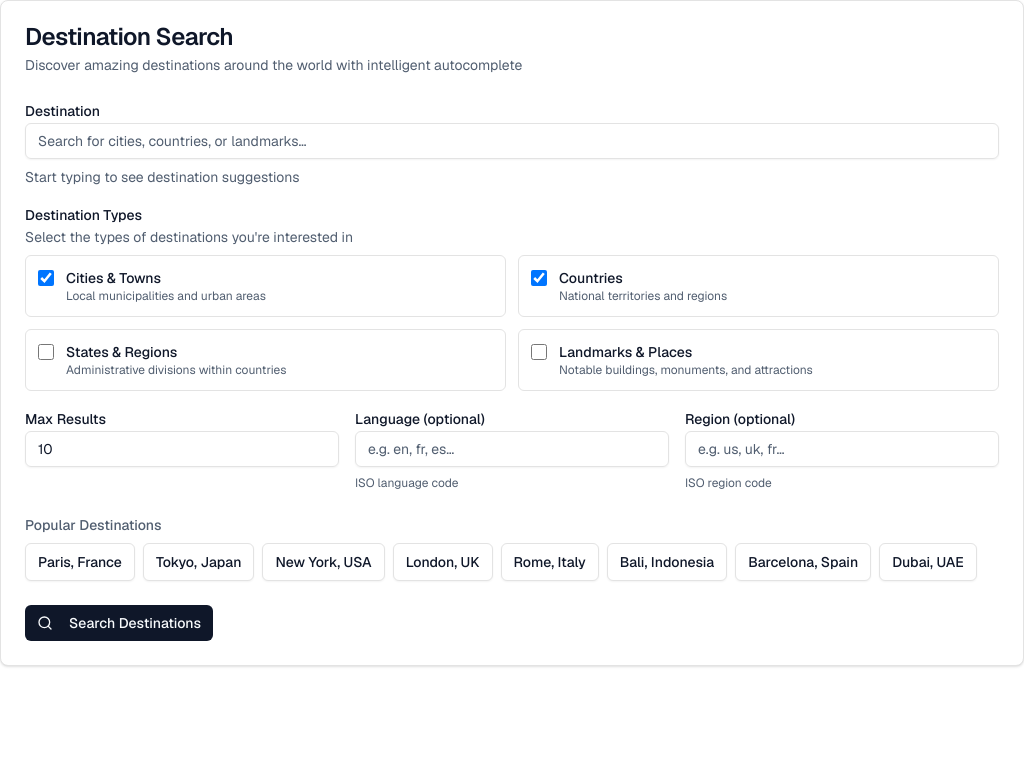
Test case: DestinationSearchForm › filters suggestions by selected destination types
Step 1. Type "Co" into the dropdown with placeholder "Search for cities, countries, or landmarks…" → (512, 141), box [25, 123, 999, 159]
Wait 350 ms
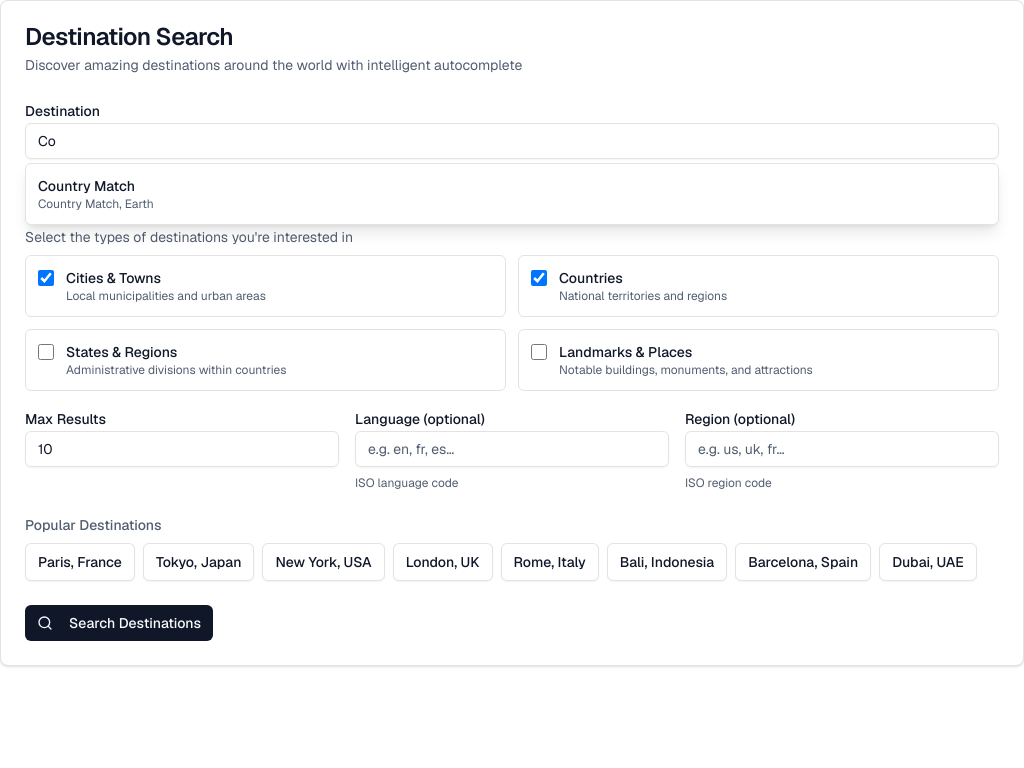
Expected: the option "Country Match Country Match, Earth" is shown, [38, 177, 154, 212]
